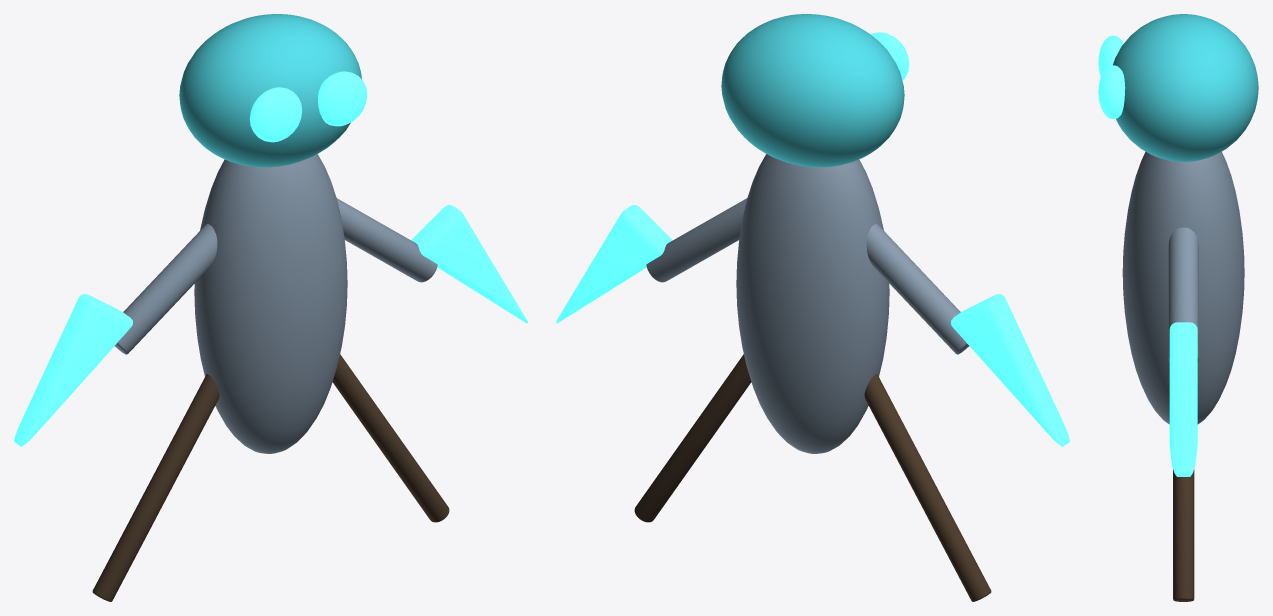
File: crawler_v4.glb
3 views of the same model, side by side, from view 1: azimuth 30°, elevation 25°; view 2: azimuth 150°, elevation 25°; view 3: azimuth 270°, elevation 25° (orthographic). The views are drawn at different scales.
Parts seen in each view (by area): view 1: MANTIS_THORAX_PRIMARY, MANTIS_HEAD_ACCENT, MANTIS_BLADE_EMISSIVE, MANTIS_LEG_SECONDARY, MANTIS_BLADE_EMISSIVE.001, MANTIS_ARM_PRIMARY, MANTIS_LEG_SECONDARY.001, MANTIS_ARM_PRIMARY.001, EYE_EMISSIVE, EYE_EMISSIVE.001; view 2: MANTIS_THORAX_PRIMARY, MANTIS_HEAD_ACCENT, MANTIS_BLADE_EMISSIVE, MANTIS_LEG_SECONDARY, MANTIS_BLADE_EMISSIVE.001, MANTIS_ARM_PRIMARY, MANTIS_LEG_SECONDARY.001, MANTIS_ARM_PRIMARY.001, EYE_EMISSIVE; view 3: MANTIS_THORAX_PRIMARY, MANTIS_HEAD_ACCENT, MANTIS_BLADE_EMISSIVE.001, MANTIS_ARM_PRIMARY.001, MANTIS_LEG_SECONDARY.001, EYE_EMISSIVE.001, EYE_EMISSIVE.
Boxes of the visible parts, left/top/right/bottom form: MANTIS_THORAX_PRIMARY: left=194, top=154, right=347, bottom=453; MANTIS_HEAD_ACCENT: left=179, top=14, right=361, bottom=167; MANTIS_BLADE_EMISSIVE: left=14, top=294, right=132, bottom=446; MANTIS_LEG_SECONDARY: left=92, top=374, right=219, bottom=601; MANTIS_BLADE_EMISSIVE.001: left=411, top=205, right=527, bottom=323; MANTIS_ARM_PRIMARY: left=115, top=224, right=217, bottom=354; MANTIS_LEG_SECONDARY.001: left=332, top=354, right=449, bottom=522; MANTIS_ARM_PRIMARY.001: left=336, top=198, right=437, bottom=282; EYE_EMISSIVE: left=249, top=87, right=302, bottom=142; EYE_EMISSIVE.001: left=318, top=71, right=367, bottom=126; MANTIS_THORAX_PRIMARY: left=736, top=154, right=889, bottom=453; MANTIS_HEAD_ACCENT: left=721, top=14, right=904, bottom=167; MANTIS_BLADE_EMISSIVE: left=951, top=294, right=1069, bottom=446; MANTIS_LEG_SECONDARY: left=864, top=374, right=991, bottom=601; MANTIS_BLADE_EMISSIVE.001: left=556, top=205, right=672, bottom=323; MANTIS_ARM_PRIMARY: left=866, top=224, right=968, bottom=354; MANTIS_LEG_SECONDARY.001: left=634, top=354, right=751, bottom=522; MANTIS_ARM_PRIMARY.001: left=646, top=198, right=747, bottom=282; EYE_EMISSIVE: left=870, top=32, right=909, bottom=80; MANTIS_THORAX_PRIMARY: left=1122, top=151, right=1244, bottom=424; MANTIS_HEAD_ACCENT: left=1113, top=14, right=1258, bottom=161; MANTIS_BLADE_EMISSIVE.001: left=1169, top=322, right=1197, bottom=476; MANTIS_ARM_PRIMARY.001: left=1168, top=227, right=1198, bottom=361; MANTIS_LEG_SECONDARY.001: left=1173, top=469, right=1194, bottom=601; EYE_EMISSIVE.001: left=1098, top=65, right=1125, bottom=119; EYE_EMISSIVE: left=1098, top=35, right=1123, bottom=76.
Bounding box in the file's own units: 1.82 × 1.85 × 0.5336.
